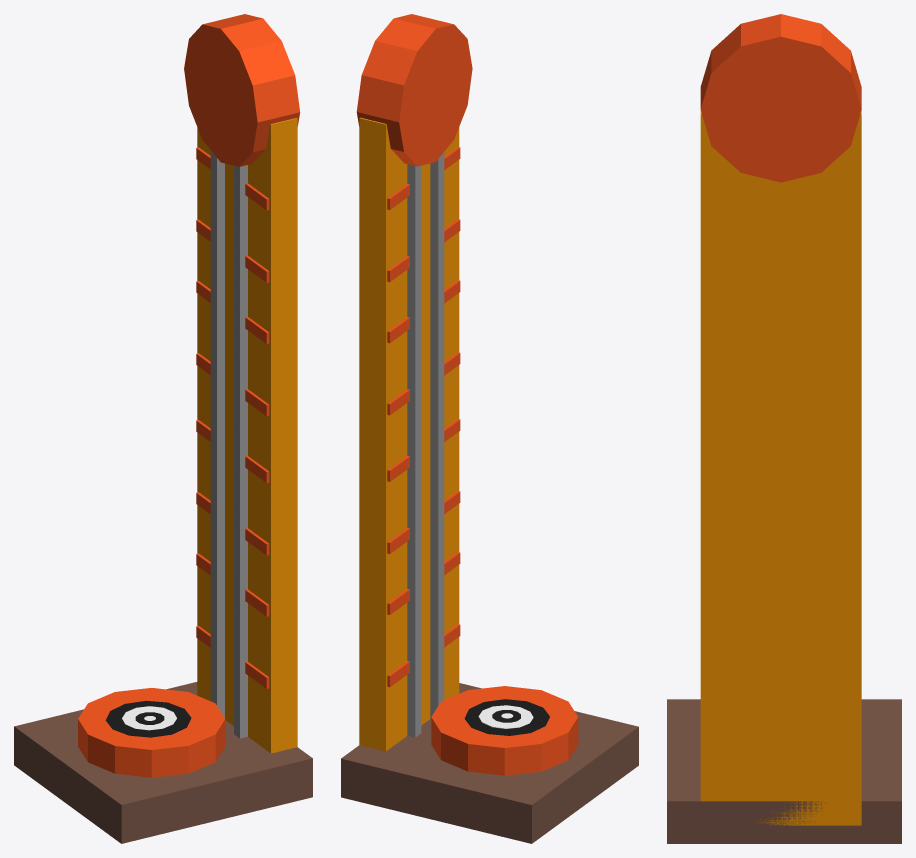
Rendered from High striker by Zgeal - aubwCF1Xf-v.glb.
The picture shows the model from 3 angles, left to right: view 1: azimuth 30°, elevation 25°; view 2: azimuth 150°, elevation 25°; view 3: azimuth 270°, elevation 25°; orthographic projection. The views are drawn at different scales.
Visible parts, largest first — view 1: Node; view 2: Node; view 3: Node.
Part boxes in pixels (left/top/right/bottom): Node: left=14, top=14, right=312, bottom=843; Node: left=341, top=14, right=638, bottom=843; Node: left=667, top=14, right=901, bottom=843.
Bounding box in the file's own units: 0.365 × 1.33 × 0.35.
